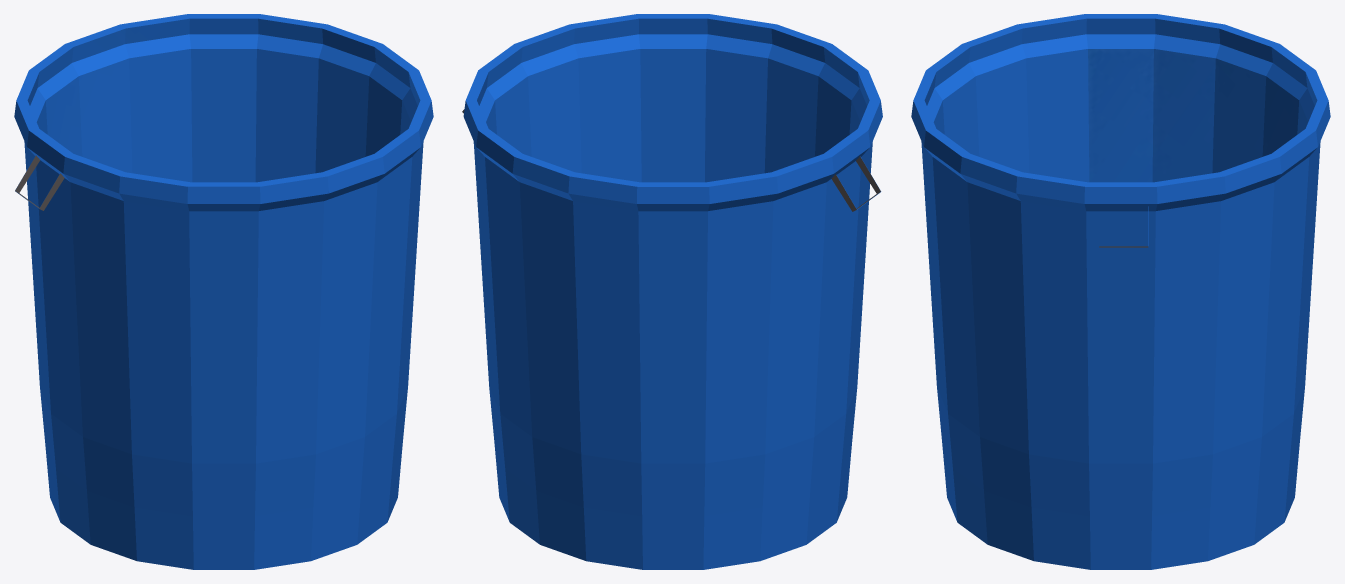
File: 쓰레기통fbx.fbx
The picture shows the model from 3 angles, left to right: view 1: azimuth 30°, elevation 25°; view 2: azimuth 150°, elevation 25°; view 3: azimuth 270°, elevation 25°; orthographic projection.
Visible parts, largest first — view 1: Tube001; view 2: Tube001; view 3: Tube001.
Part boxes in pixels (x1,y1,x2,y2): Tube001: (14, 14, 433, 569); Tube001: (462, 14, 882, 569); Tube001: (911, 14, 1330, 569).
Bounding box in the file's own units: 160 × 154 × 147.
Materials: 1 (1 with a texture image).
